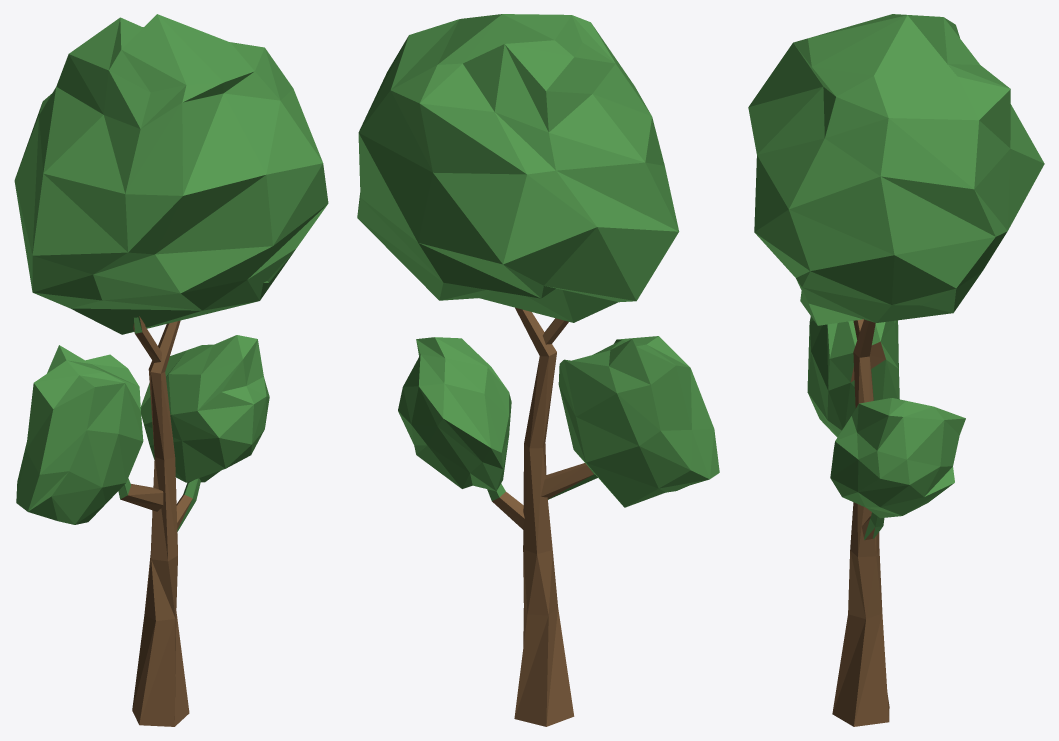
The model's file is tree3d-145.glb.
3 renders of one model, left to right at view 1: azimuth 30°, elevation 25°; view 2: azimuth 150°, elevation 25°; view 3: azimuth 270°, elevation 25°, orthographic. The views are drawn at different scales.
Visible parts, largest first — view 1: tree3d-145; view 2: tree3d-145; view 3: tree3d-145.
Boxes of the visible parts, <box> form: tree3d-145: <box>14,14,328,726</box>; tree3d-145: <box>357,14,719,726</box>; tree3d-145: <box>748,14,1044,726</box>.
Size of the model in its own units: 0.4715 by 1 by 0.3792.
